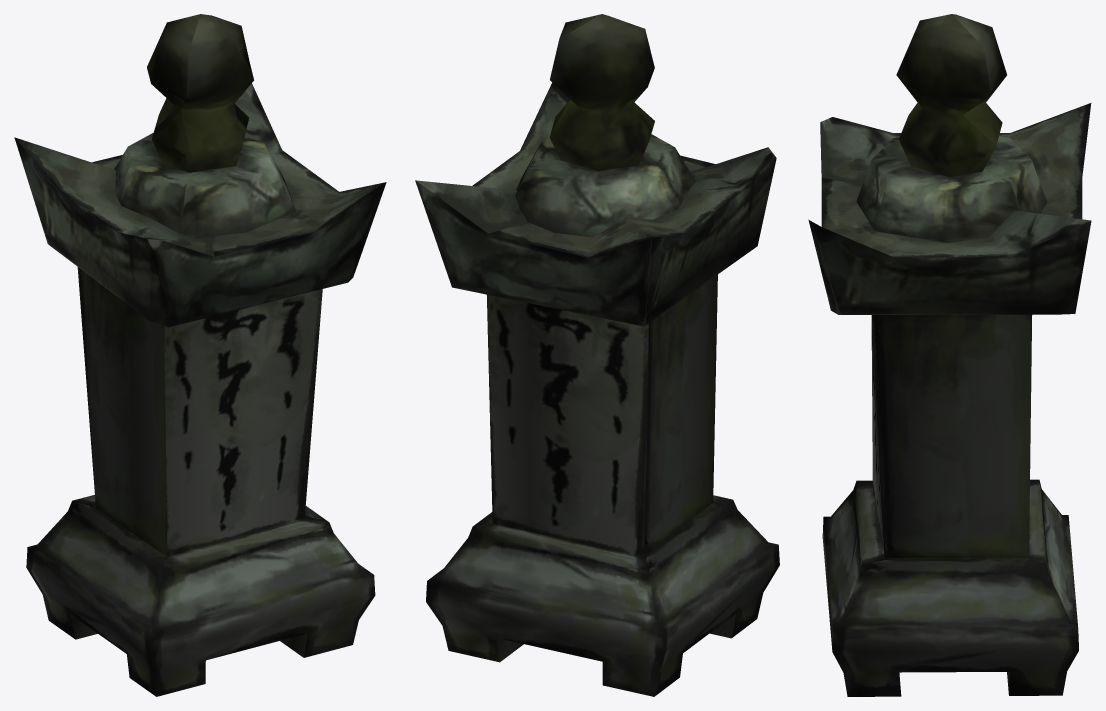
The model's file is BRK_Grave01.FBX.
3 views of the same model, side by side, from view 1: azimuth 30°, elevation 25°; view 2: azimuth 150°, elevation 25°; view 3: azimuth 270°, elevation 25° (orthographic). The views are drawn at different scales.
Visible parts, largest first — view 1: BRK_Grave01; view 2: BRK_Grave01; view 3: BRK_Grave01.
Boxes of the visible parts, box(x1,y1,x2,y2) form: BRK_Grave01: box(14, 14, 386, 696); BRK_Grave01: box(415, 14, 779, 696); BRK_Grave01: box(808, 14, 1091, 696).
Size of the model in its own units: 83.66 by 209 by 84.98.
